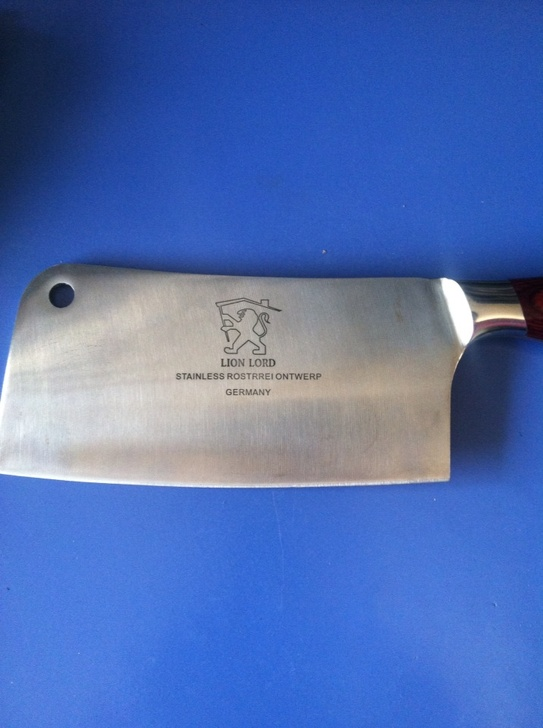knief: (10, 243, 526, 486)
